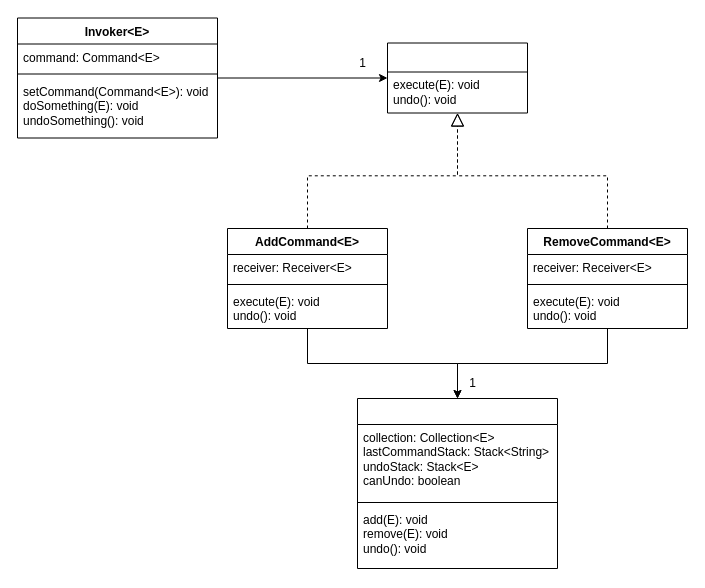
Some shapes in this 705 by 588 pixel diagram are drawn without their labels. The shapes that lost their labels are listed below. From the top down, each one's box as (x1, y1, x2, y2) in pixels, then its label:
(386, 42, 528, 113): <<interface>> Command<E>
(356, 398, 558, 568): Receiver<E>
